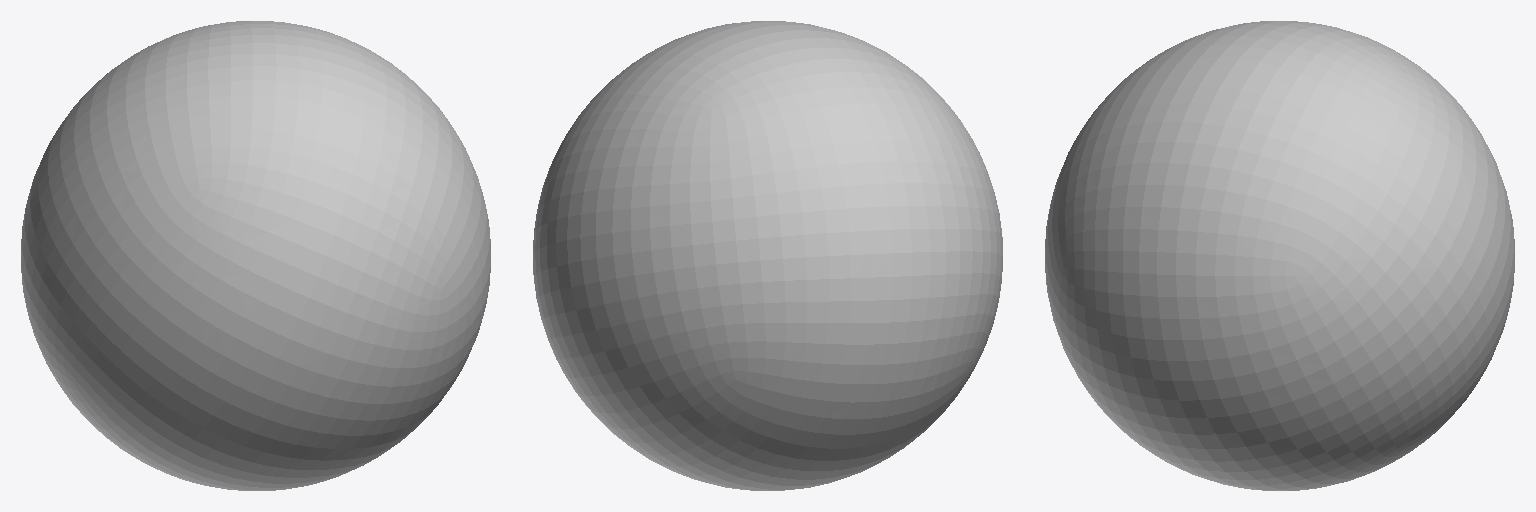
The model's file is Moon-2K-smooth.obj.
3 renders of one model, left to right at view 1: azimuth 30°, elevation 25°; view 2: azimuth 150°, elevation 25°; view 3: azimuth 270°, elevation 25°, orthographic.
Parts seen in each view (by area): view 1: Moon_Cube.002; view 2: Moon_Cube.002; view 3: Moon_Cube.002.
Part boxes in pixels (x1,y1,x2,y2): Moon_Cube.002: (21,21,490,490); Moon_Cube.002: (533,21,1002,490); Moon_Cube.002: (1045,21,1514,490).
Bounding box in the file's own units: 5.87 × 5.87 × 5.87.